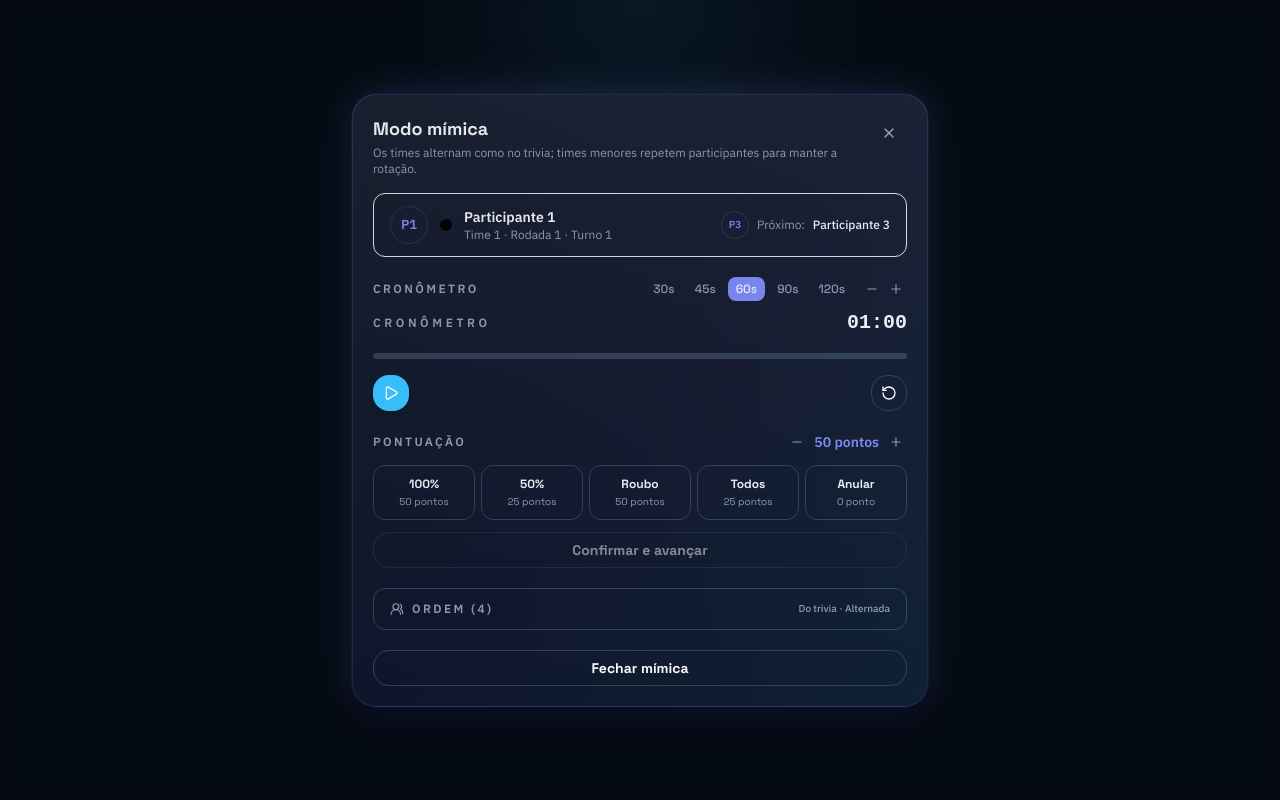
MimicaModal › deve mostrar ordem de participação ao expandir
Click the text "Ordem (4)" at point(442, 608), box [390,600,494,616]
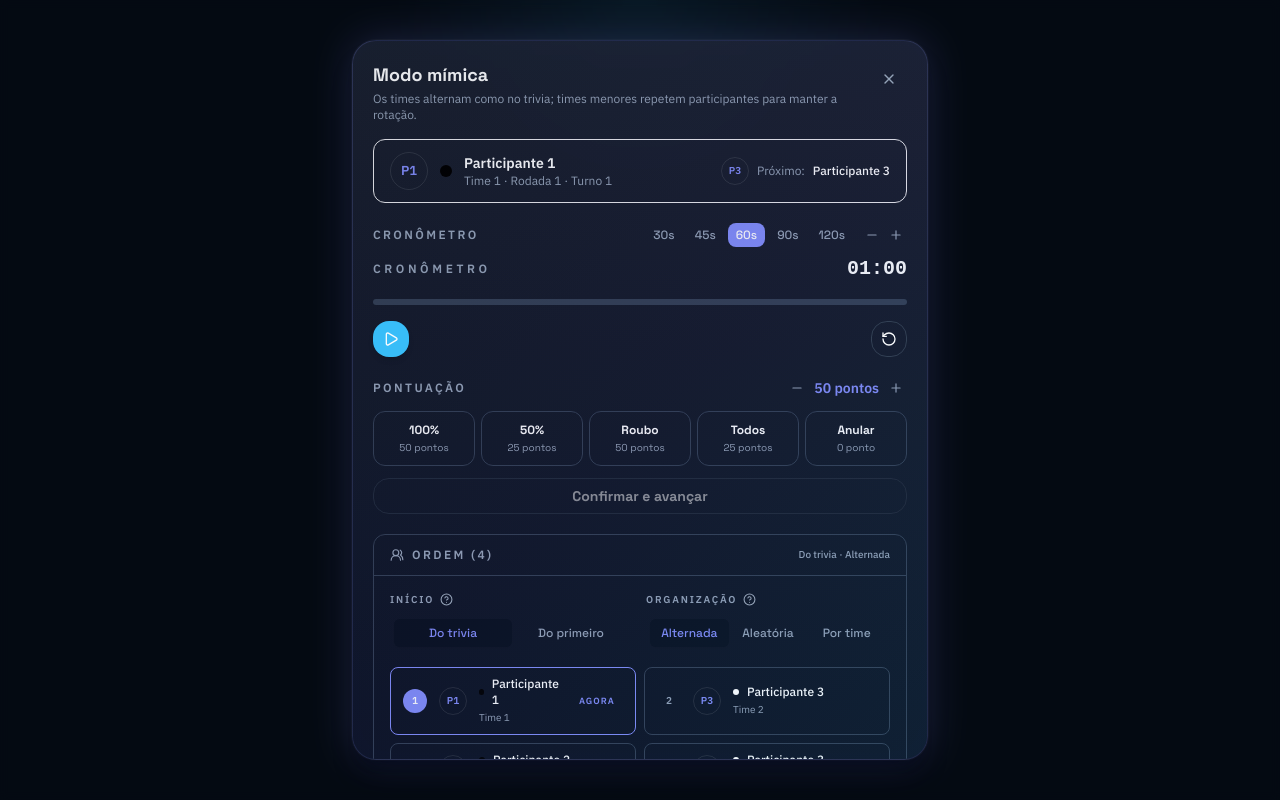
Expected: the button "Alternada" is shown, [650,619,729,647]
